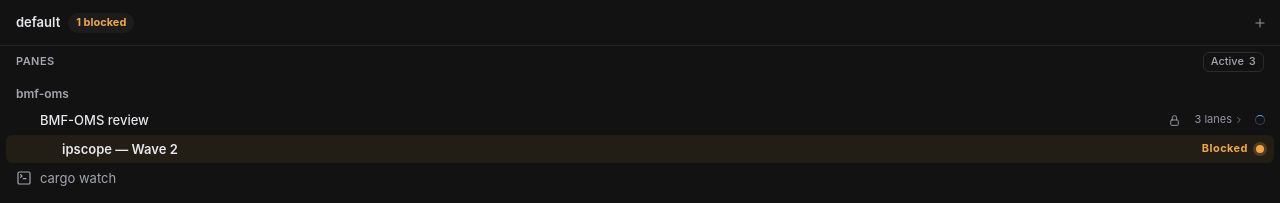
Scenario: AgentList lanes › counts a blocked lane but not an unseen Done lane on a folded workspace
Click the button "bmf-oms".
click(42, 94)  # box [16,86,69,102]
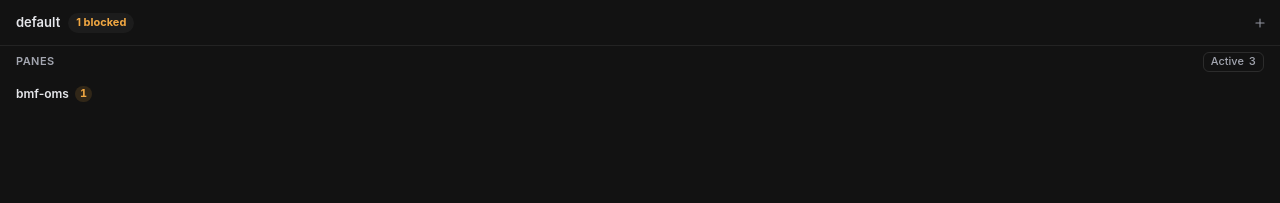
Expected: the button with aria-label "bmf-oms, 1 needs you" is collapsed, [16,86,69,102]
Expected: the text with class "need" reads "1", [80,86,87,100]
